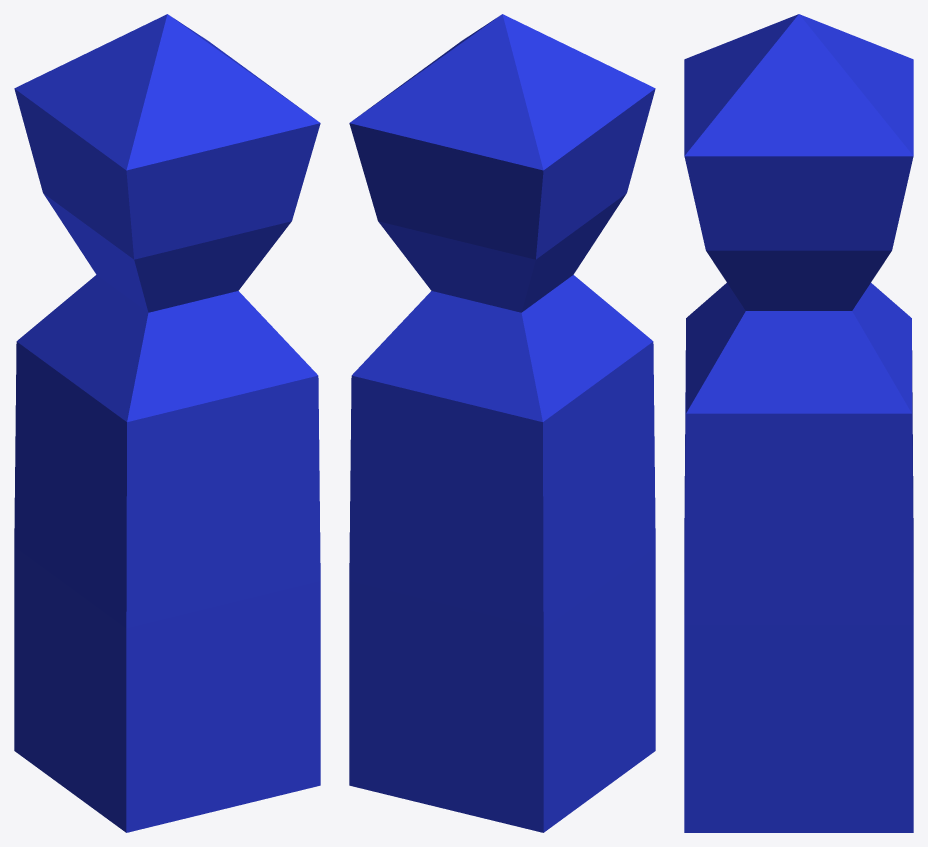
Rendered from BluePiece.glb.
3 views of the same model, side by side, from view 1: azimuth 30°, elevation 25°; view 2: azimuth 150°, elevation 25°; view 3: azimuth 270°, elevation 25° (orthographic). The views are drawn at different scales.
Parts seen in each view (by area): view 1: Cube; view 2: Cube; view 3: Cube.
Boxes of the visible parts, left/top/right/bottom form: Cube: left=14, top=14, right=320, bottom=832; Cube: left=349, top=14, right=655, bottom=832; Cube: left=684, top=14, right=913, bottom=832.
Bounding box in the file's own units: 0.2053 × 0.7619 × 0.2053.
